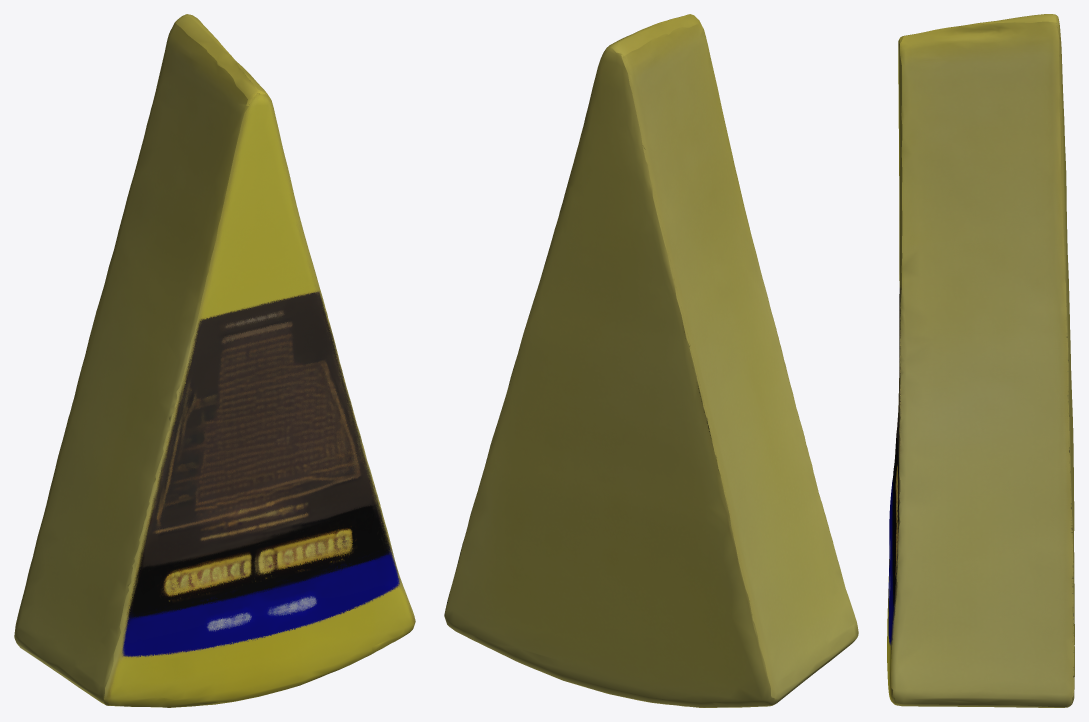
Rendered from minicheese.obj.
3 renders of one model, left to right at view 1: azimuth 30°, elevation 25°; view 2: azimuth 150°, elevation 25°; view 3: azimuth 270°, elevation 25°, orthographic. The views are drawn at different scales.
Bounding box in the file's own units: 0.0537 × 0.0996 × 0.0262.
1 material, 1 textured.
